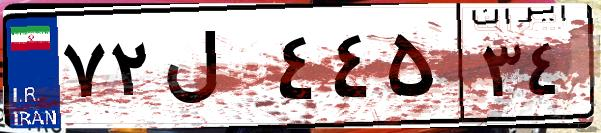2: (110, 28, 158, 98)
3: (475, 38, 525, 113)
4: (270, 28, 330, 110), (330, 28, 385, 110), (525, 38, 570, 115)
5: (385, 28, 445, 110)
7: (57, 26, 110, 100)
ل: (158, 20, 270, 120)
